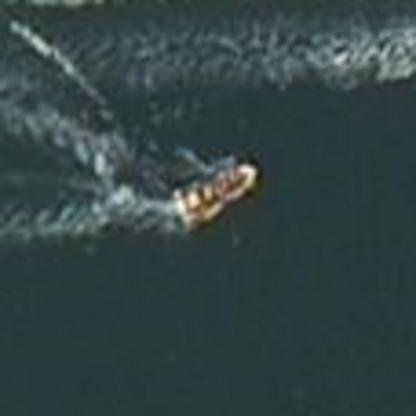ship: (161, 154, 263, 236)
